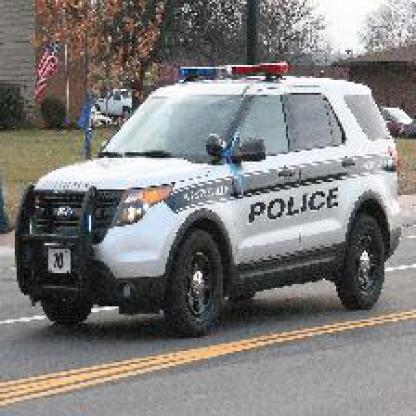emergency: (11, 57, 405, 361)
